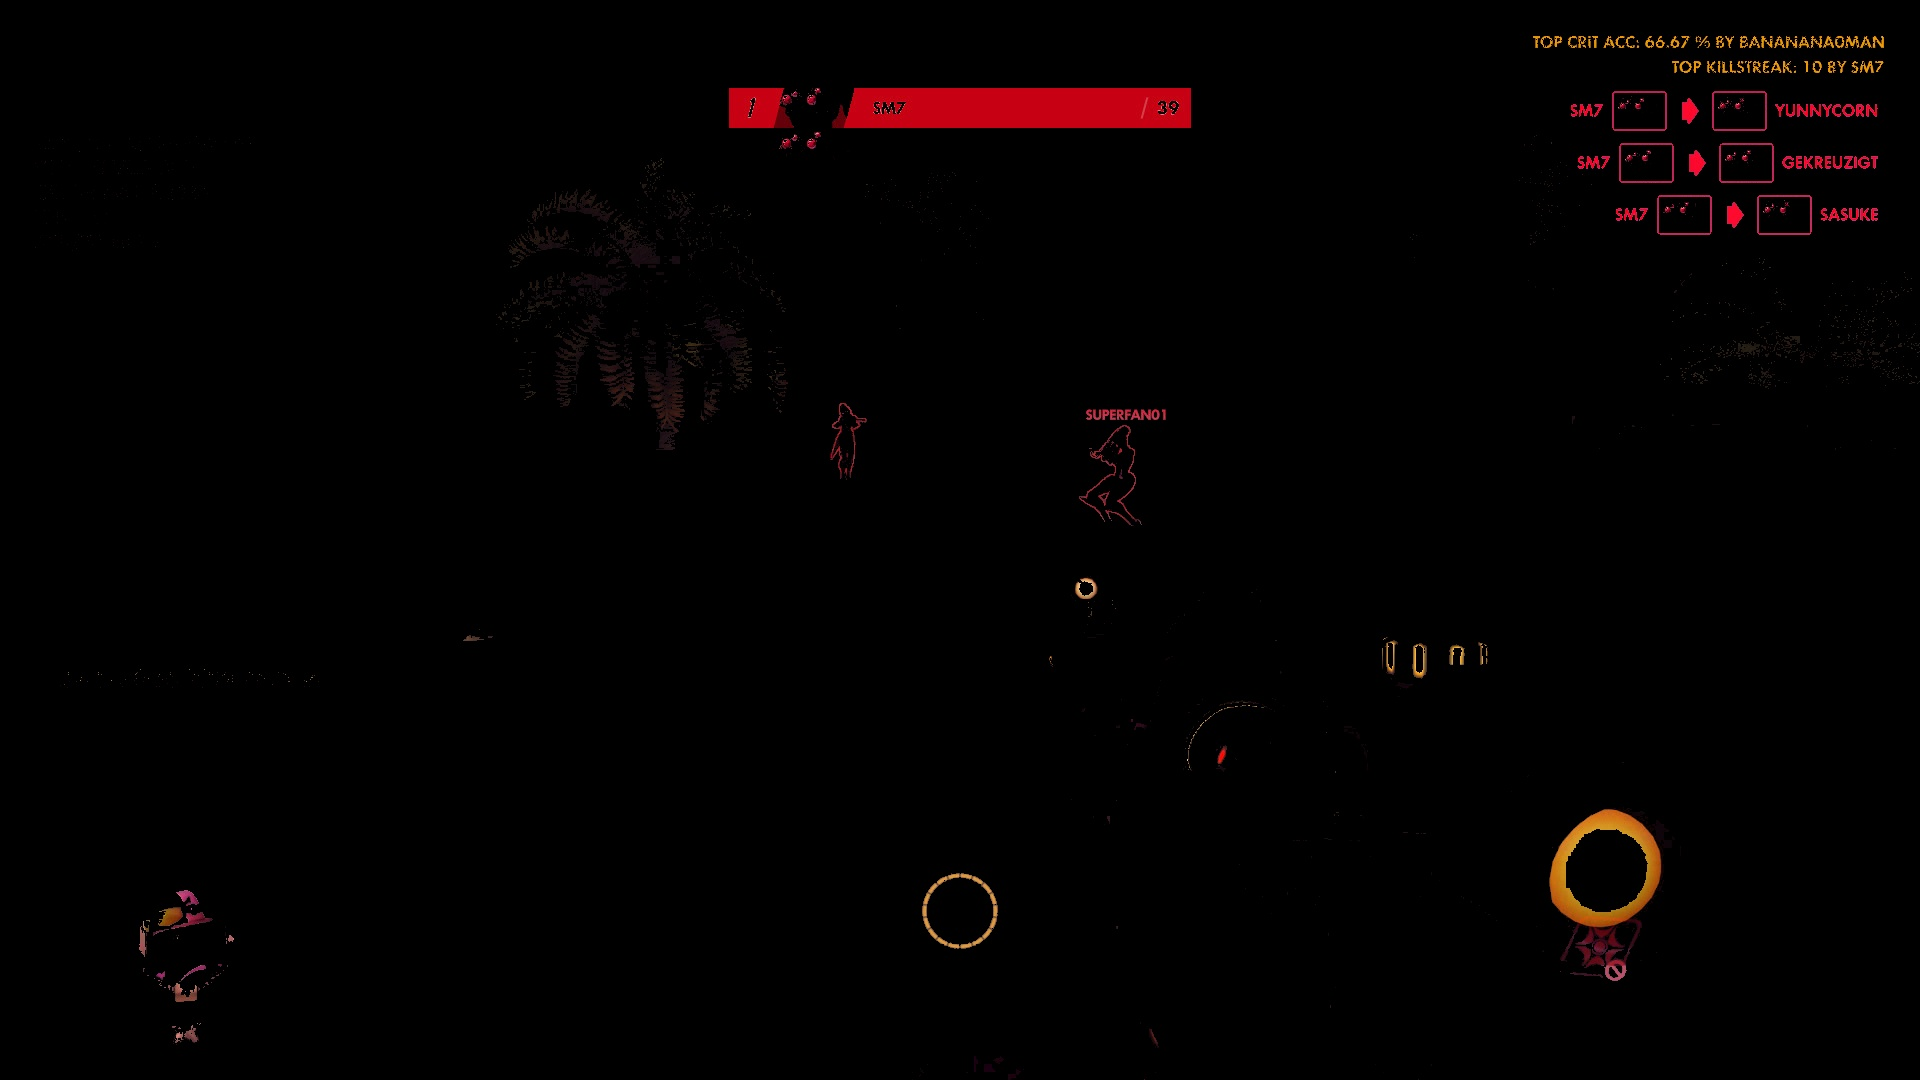widowmaker: (1075, 425, 1147, 538), (829, 400, 865, 487)
